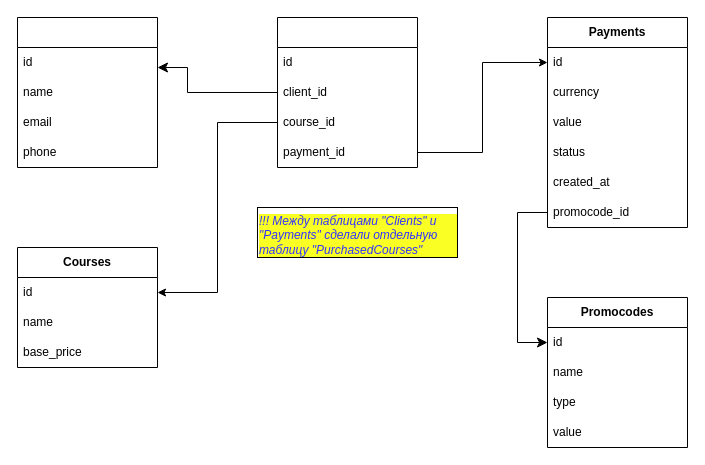
Image size: 705x465. Some labels were removed from this diagram. Here are the shapes that lost their labels. From the top down, the box of each, then its label:
(16, 16, 158, 168): Clients
(276, 16, 418, 168): PurchasedCourses
